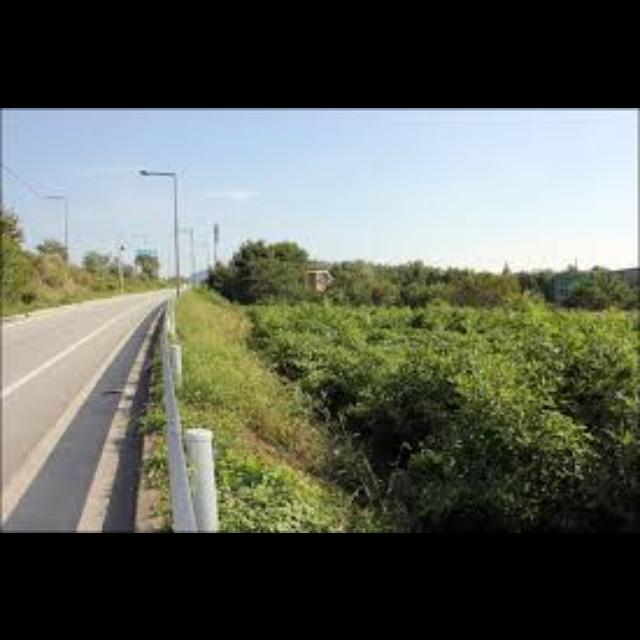Street-Lamp: (132, 156, 195, 294)
